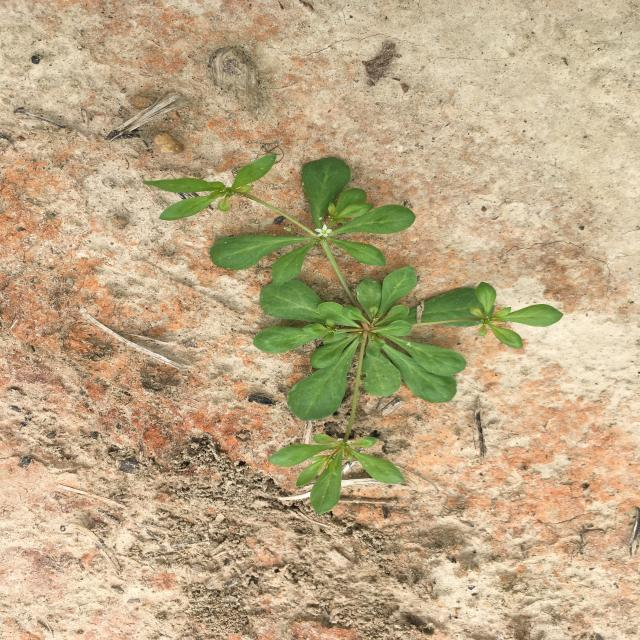Carpetweed: (141, 153, 564, 515)
